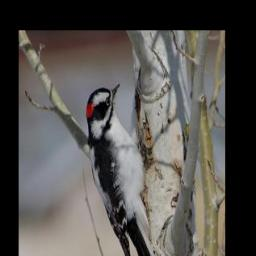Woodpecker: (87, 81, 160, 256)
